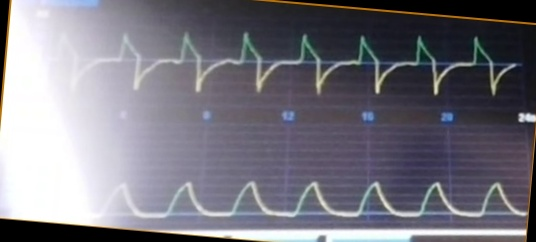Normal Flow: (44, 24, 522, 104)
Normal Volume: (86, 159, 527, 223)
